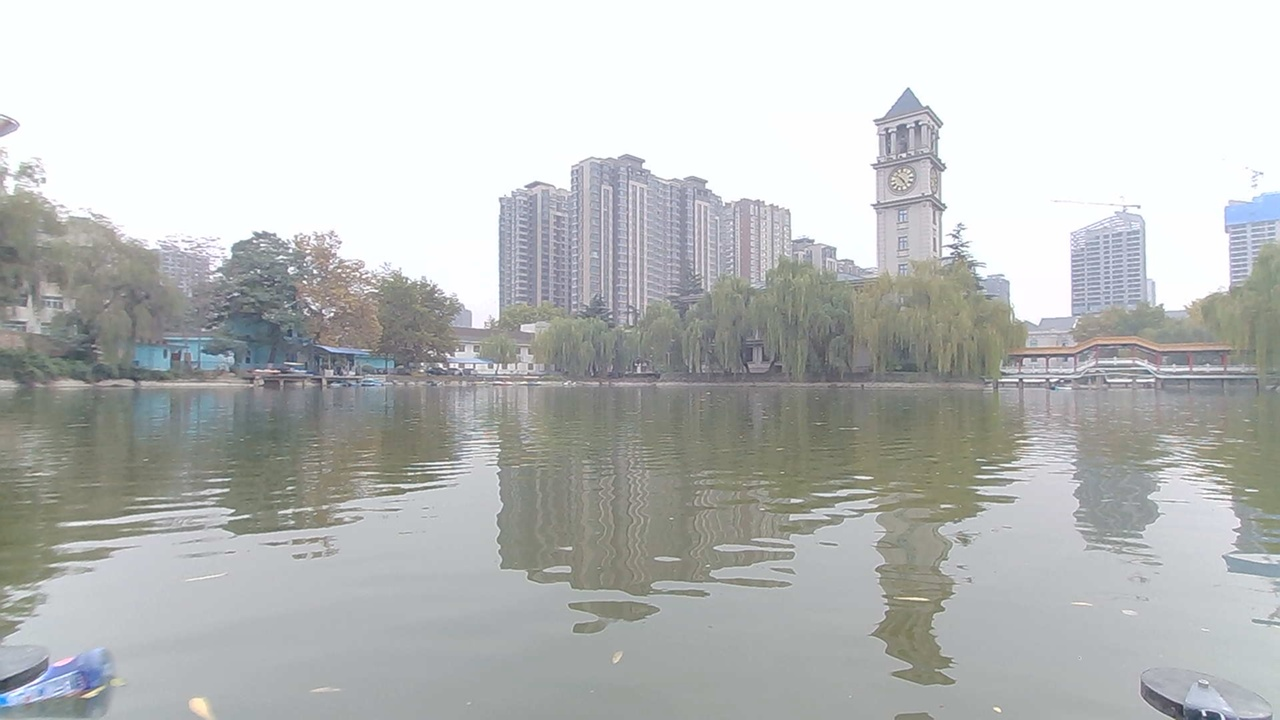bottle: (30, 652, 121, 710)
